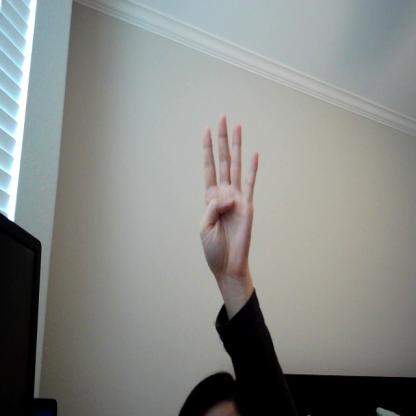four: (199, 116, 262, 272)
